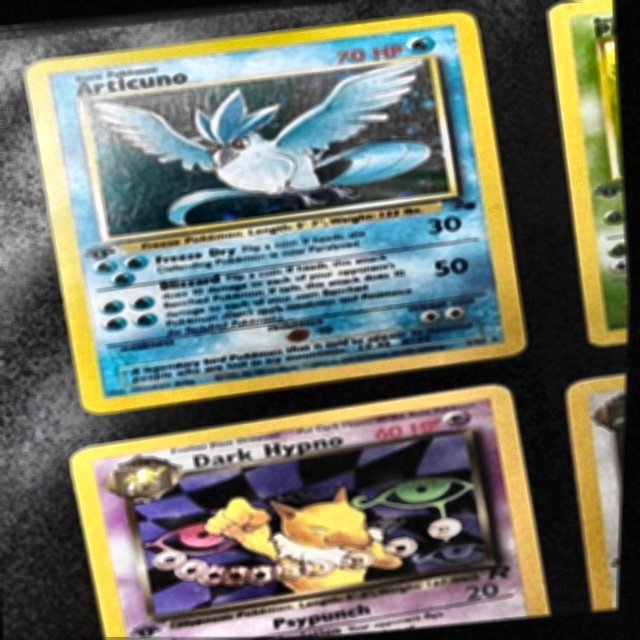card: (25, 10, 530, 413), (73, 384, 560, 639), (547, 0, 631, 348)
